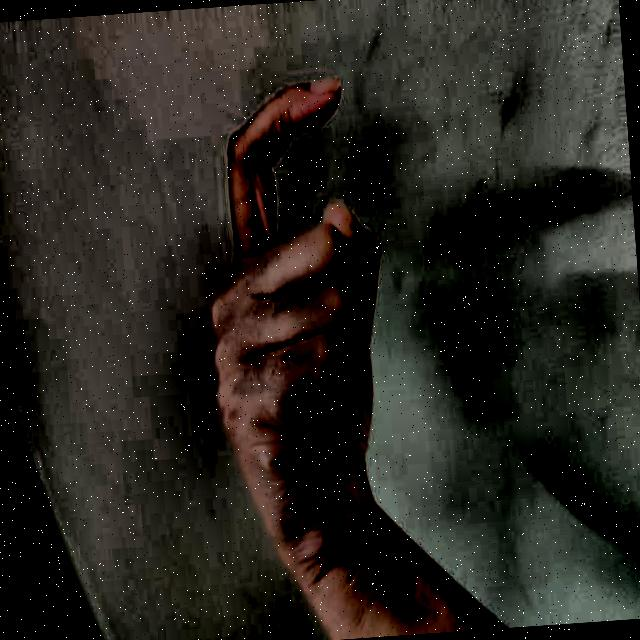E: (164, 42, 423, 554)
